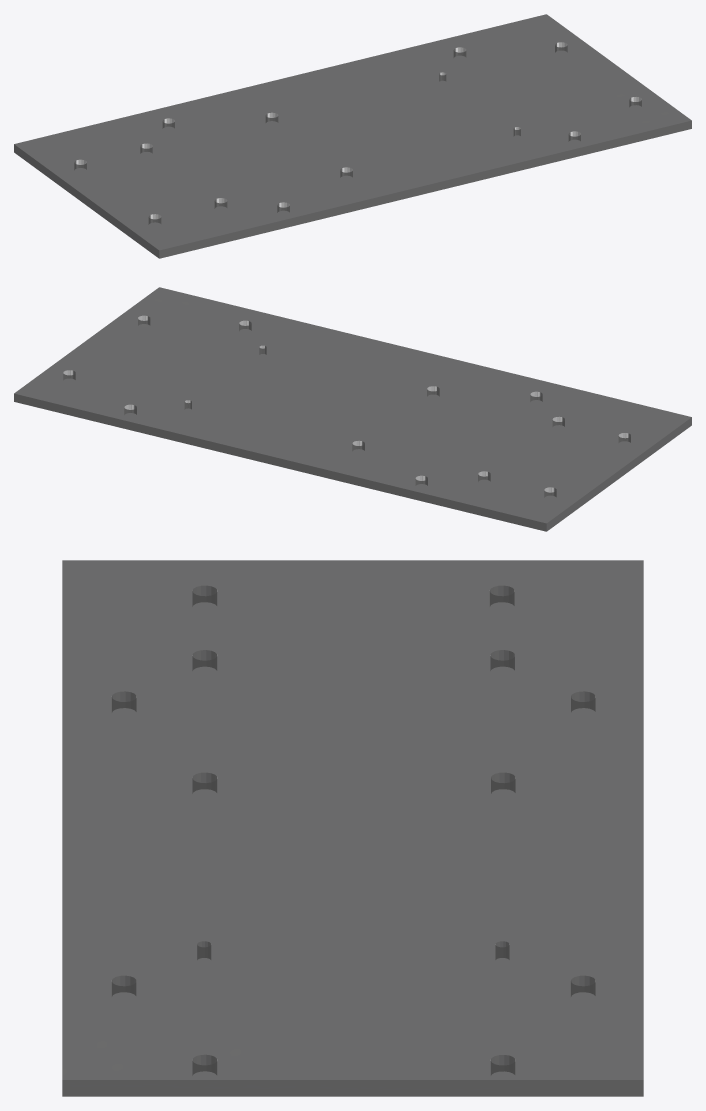
The model's file is FloorPanel.glb.
3 views of the same model, one above another, from view 1: azimuth 30°, elevation 25°; view 2: azimuth 150°, elevation 25°; view 3: azimuth 270°, elevation 25° (orthographic). The views are drawn at different scales.
Visible parts, largest first — view 1: PanelFloor; view 2: PanelFloor; view 3: PanelFloor.
Boxes of the visible parts, box(x1,y1,x2,y2) form: PanelFloor: box(14, 14, 691, 258); PanelFloor: box(14, 287, 691, 531); PanelFloor: box(62, 560, 643, 1096).
Bounding box in the file's own units: 8.58 × 0.1281 × 4.05.
Materials: 1 (1 with a texture image).
